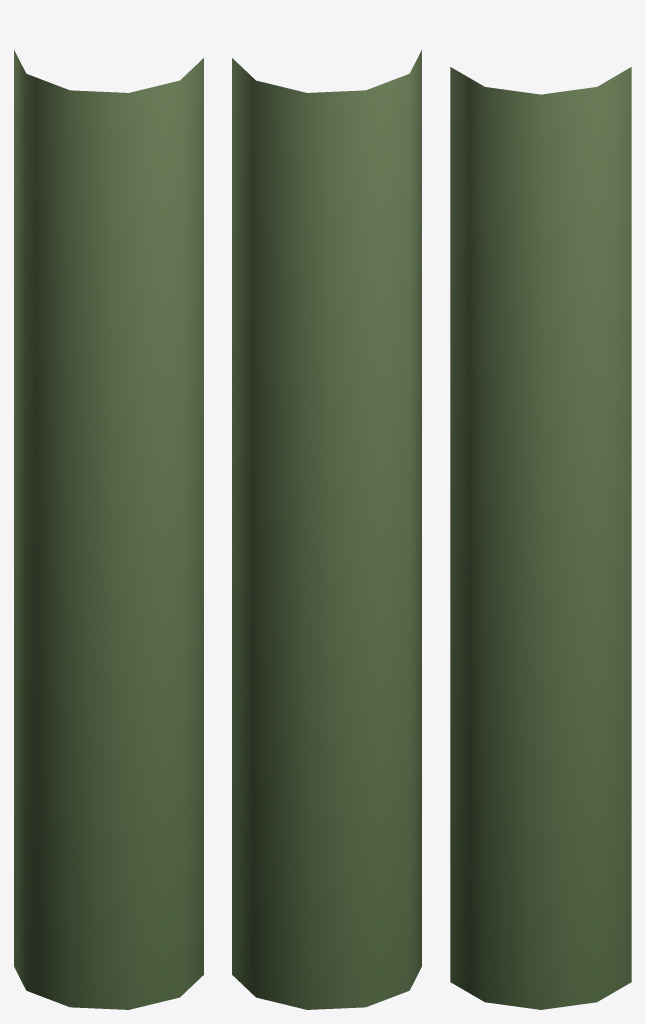
The model's file is cactus_saguaro_c.glb.
The picture shows the model from 3 angles, left to right: view 1: azimuth 30°, elevation 25°; view 2: azimuth 150°, elevation 25°; view 3: azimuth 270°, elevation 25°; orthographic projection.
Parts seen in each view (by area): view 1: cactus; view 2: cactus; view 3: cactus.
Boxes of the visible parts, x1,y1,x2,y2 form: cactus: (14, 50, 203, 1009); cactus: (232, 50, 421, 1009); cactus: (450, 67, 631, 1009).
Bounding box in the file's own units: 0.4154 × 2.2 × 0.395.
